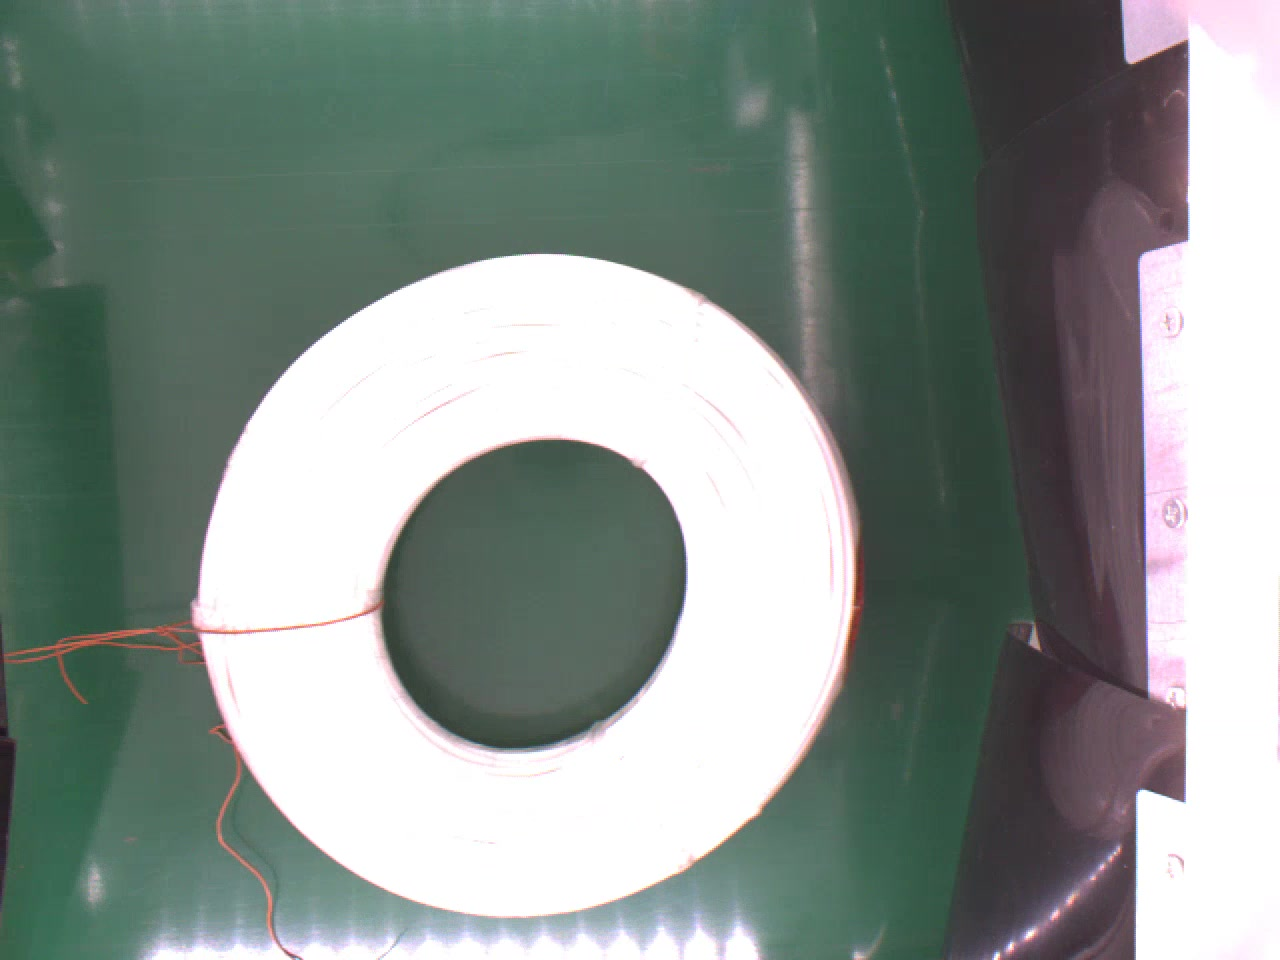white: (188, 242, 874, 919)
